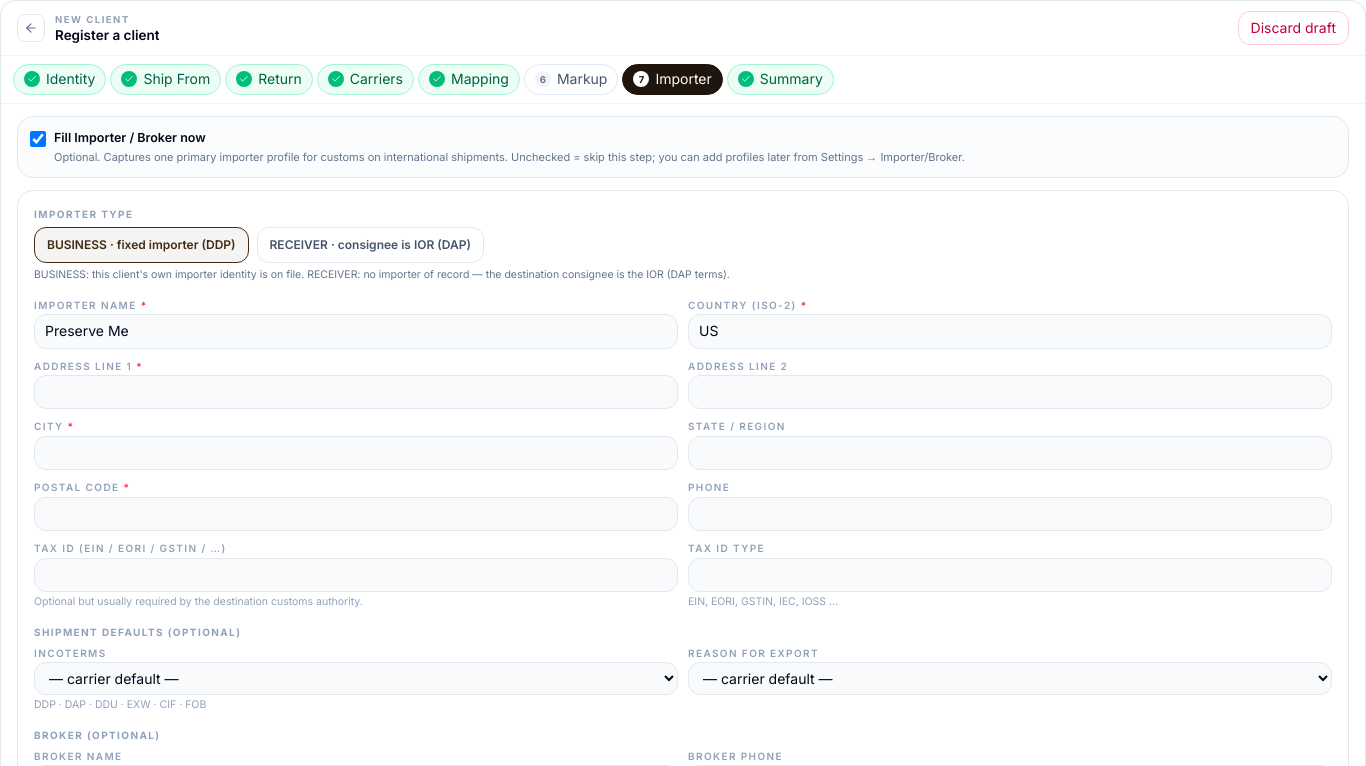
Test: ClientEditorPage · ImporterBrokerDraftStep (create mode) › unchecking Fill after filling hides the form and preserves the draft (re-check restores)
Expected: the field labelled "Importer name *" holds "Preserve Me", [34,314,678,349]
# Uncheck → form hides.
Click the checkbox labelled "Fill Importer / Broker now".
click(38, 139)  # box [30,131,46,147]
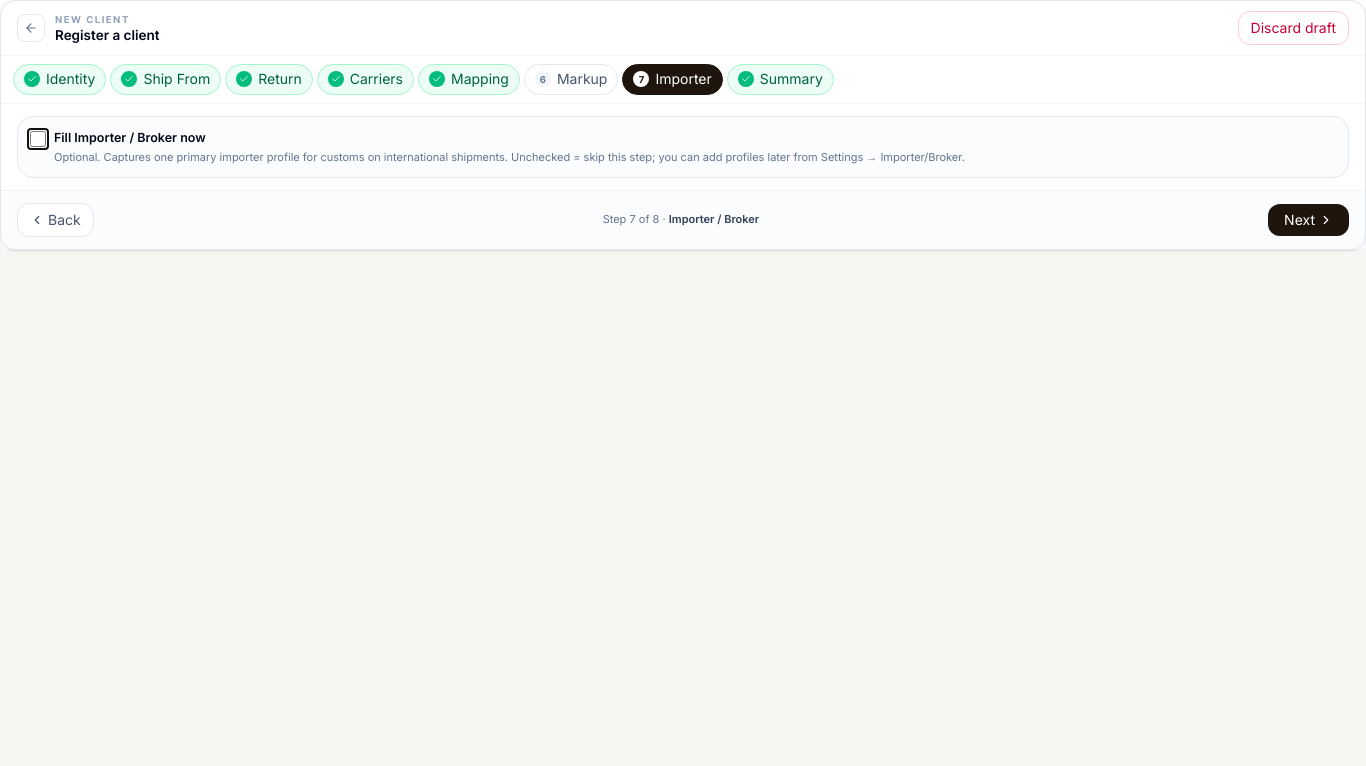
Expected: the text "Importer name" is not shown
# Re-check → the previously-typed value is still there (draft preserved).
Click the checkbox labelled "Fill Importer / Broker now".
click(38, 139)  # box [30,131,46,147]
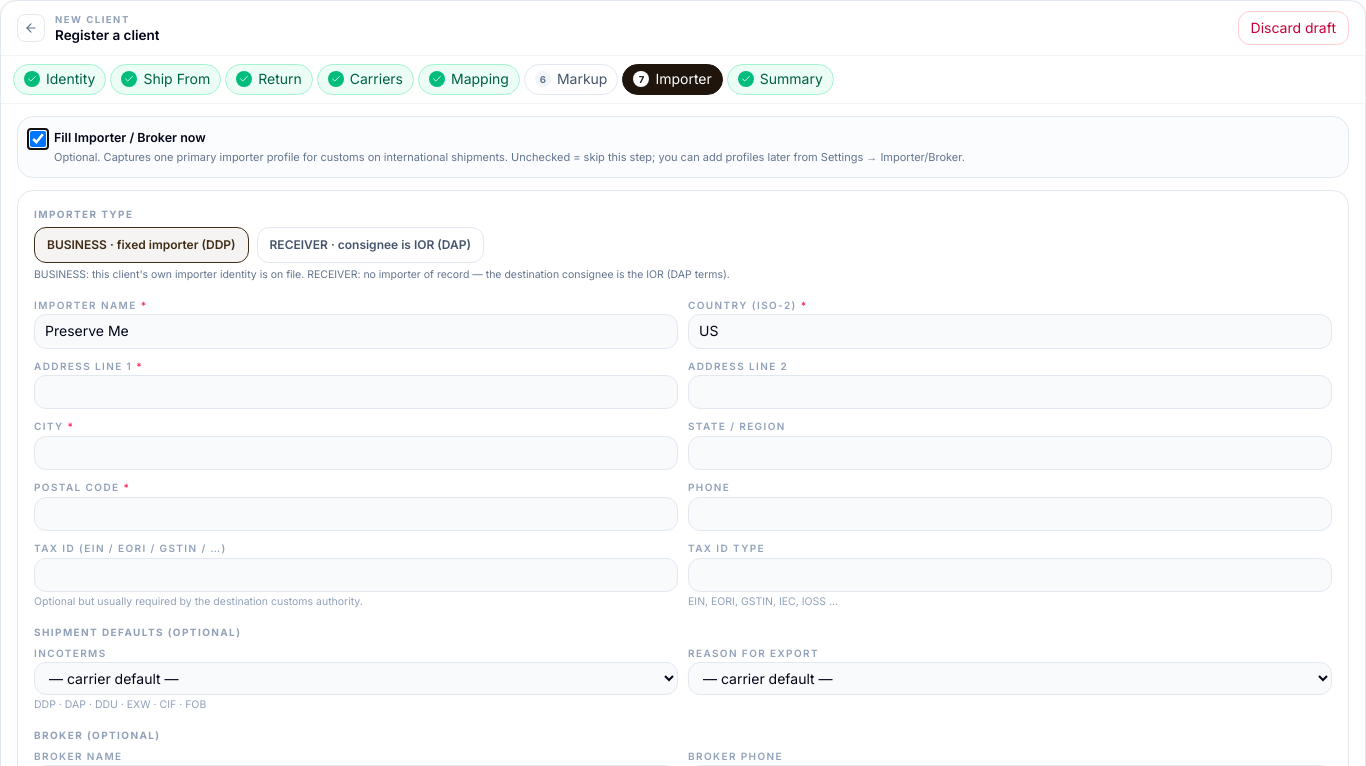
Result: the field labelled "Importer name *" holds "Preserve Me" at [34,314,678,349]
